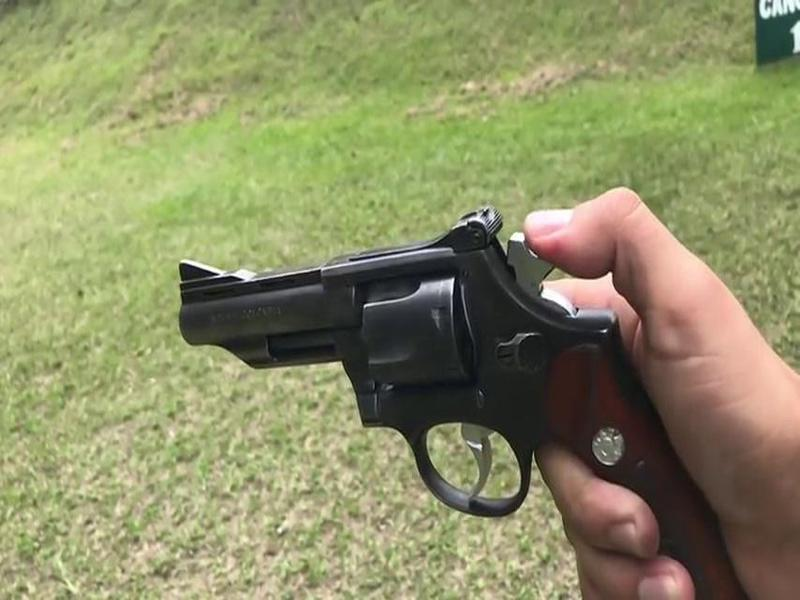Revolver: (160, 158, 658, 545)
